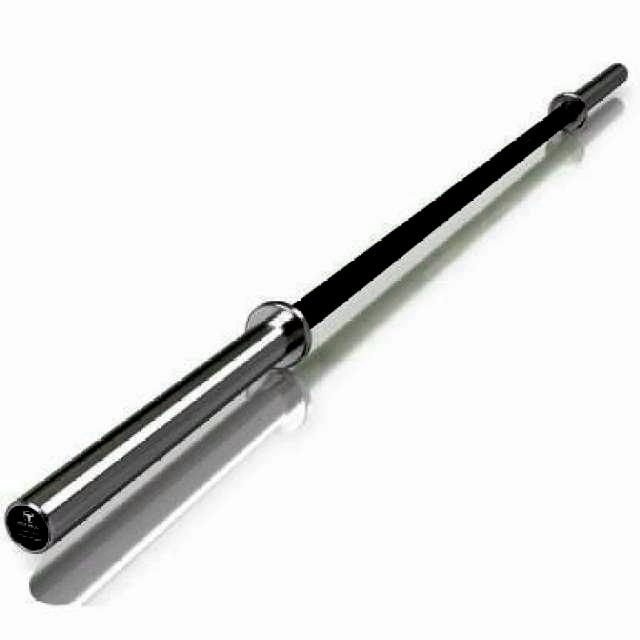barbell: (1, 297, 318, 562)
